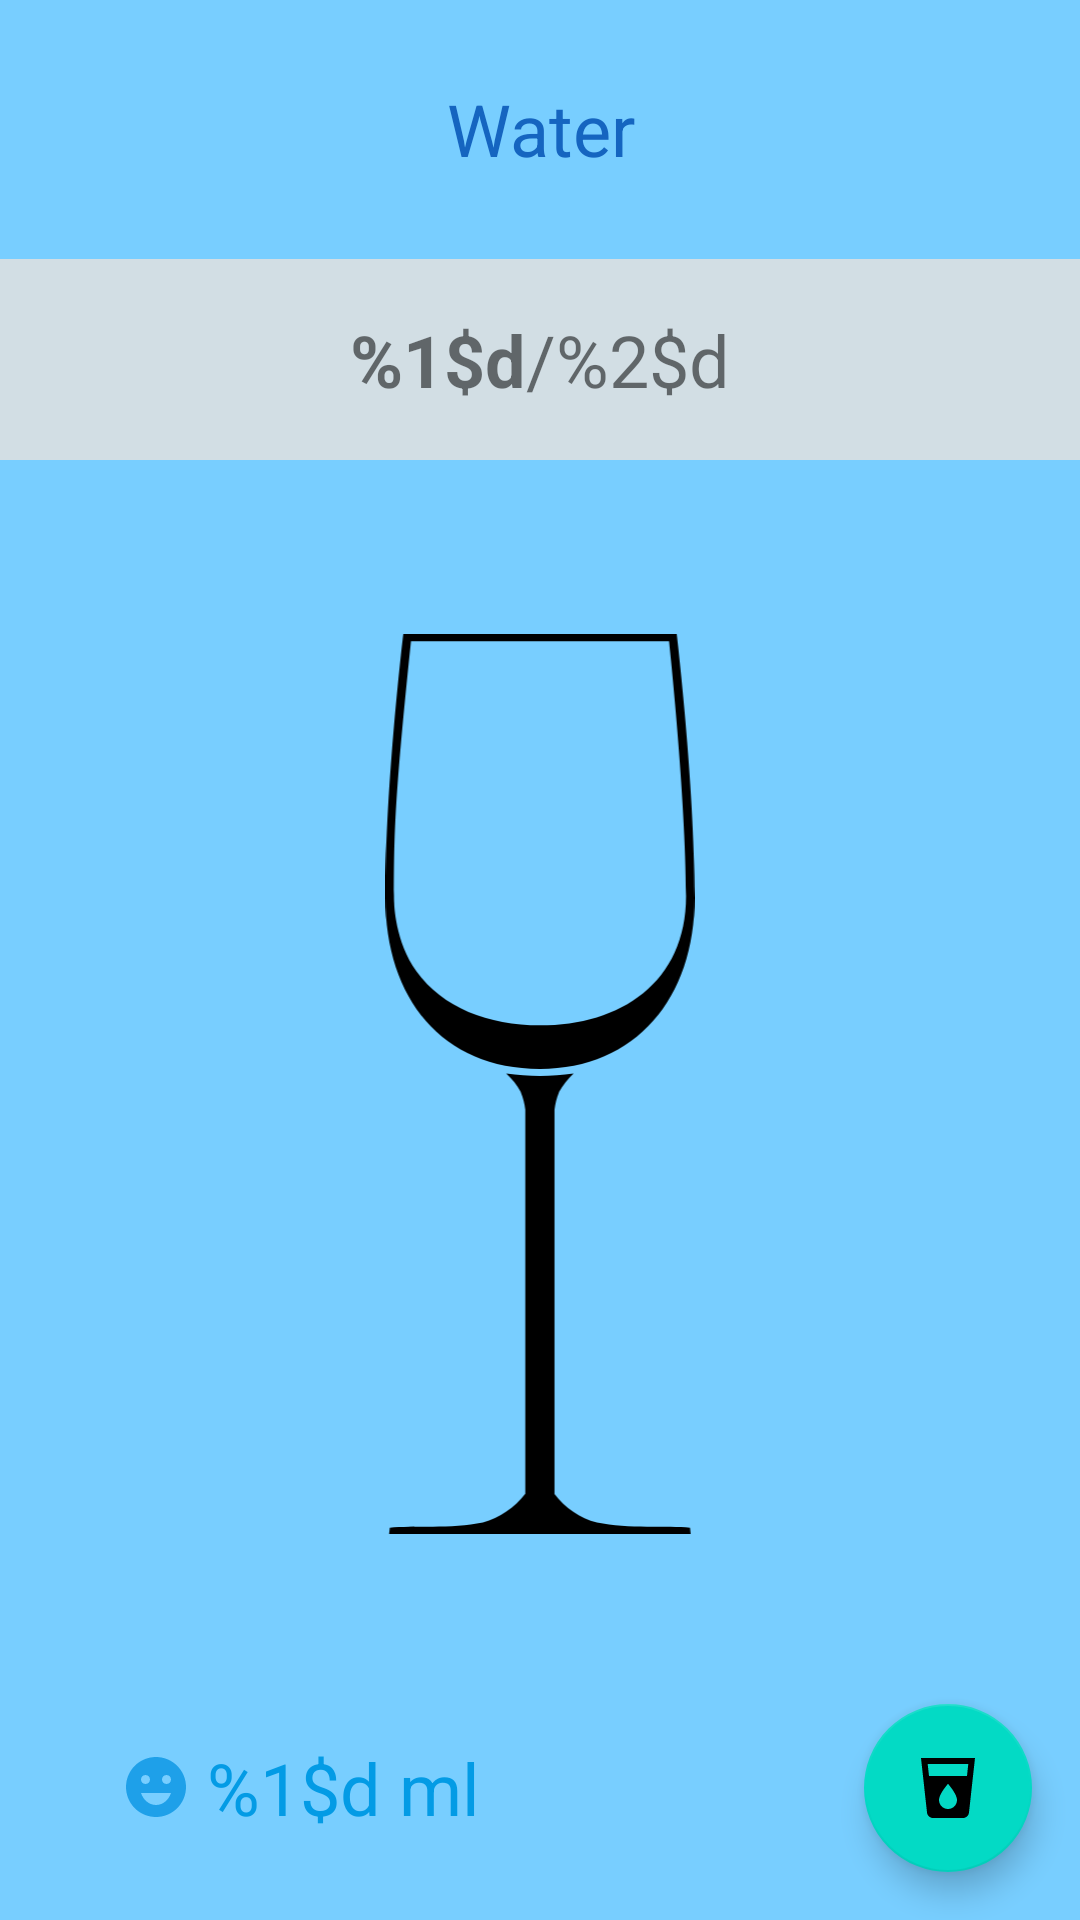

Screen size 1080w x 1920h. Icon name, then its box in pixels as (x1, y1, x2, y2):
local drink: (864, 1704, 1032, 1872)
